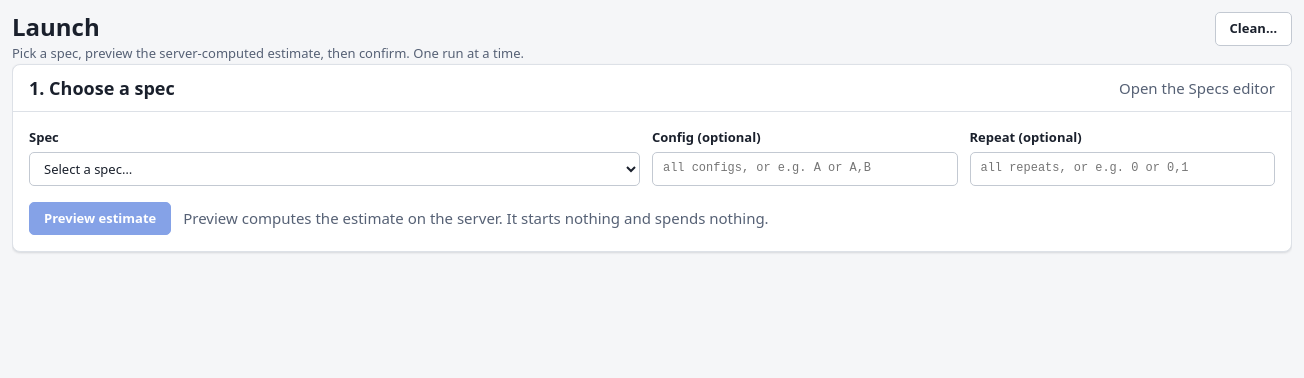
it: Launch preview › shows the server's text on a failed preview (422) and offers no estimate
Select "pilot-scripted [scripted]" in the dropdown labelled "Spec" at (334, 168), box [29,152,640,186]
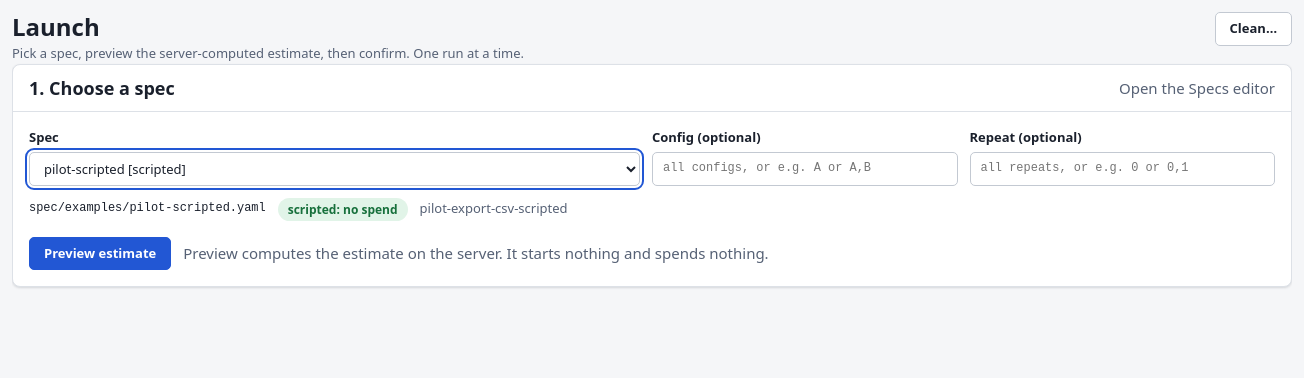
Click the button "Preview estimate" at (100, 253), box [29,237,171,270]
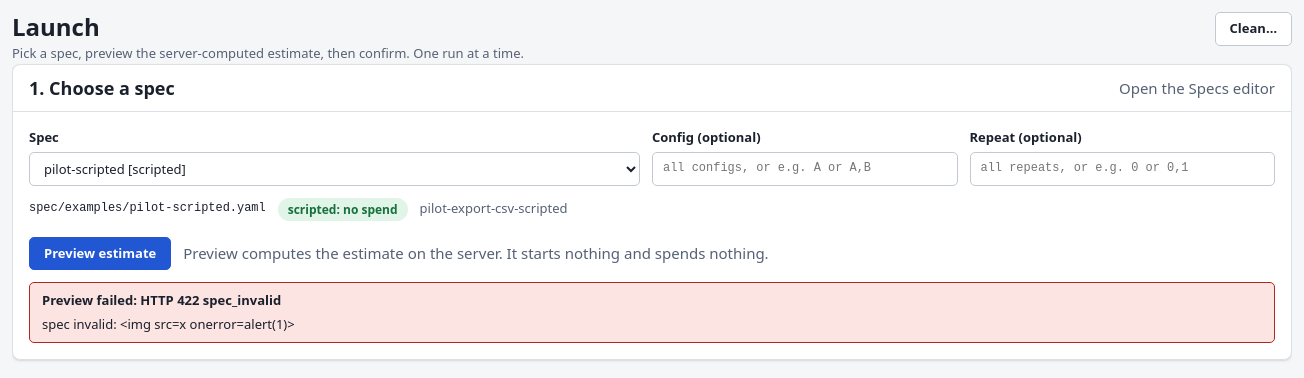
Expected: the message shows "spec_invalid", [200,291,281,309]
Expected: the message shows "<img src=x onerror=alert(1)>", [42,315,295,333]
